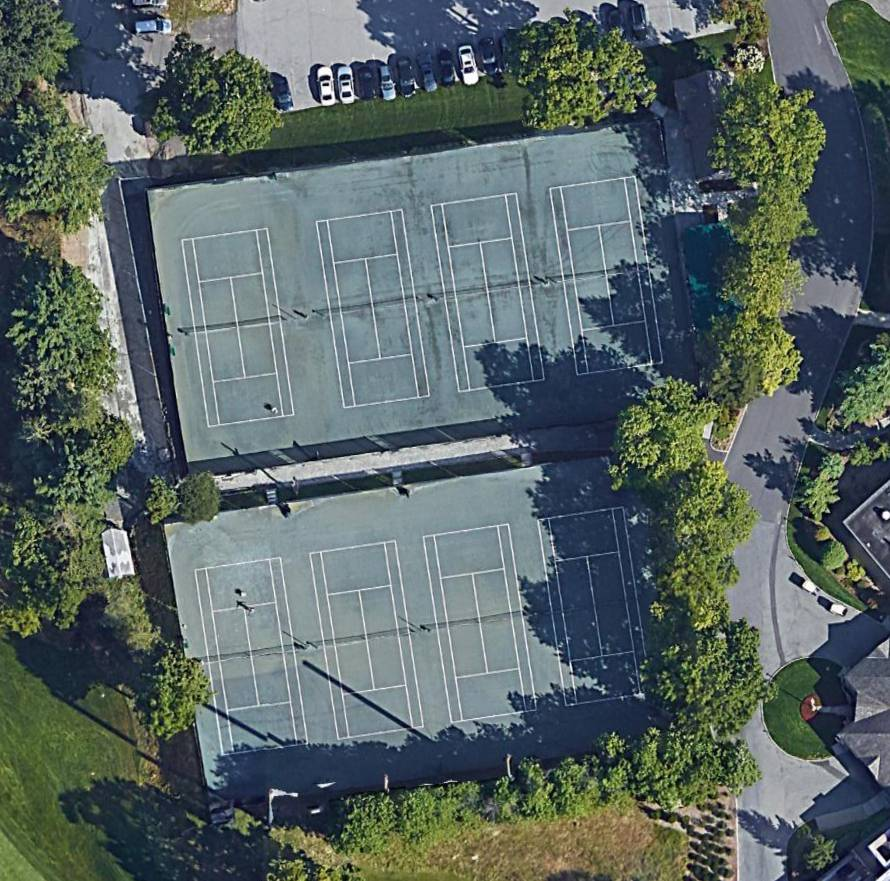small vehicle: (395, 54, 419, 100), (457, 44, 481, 88), (477, 36, 501, 79), (315, 65, 338, 108), (416, 52, 439, 94), (628, 2, 651, 42), (335, 66, 358, 105), (377, 65, 399, 104), (437, 49, 458, 89), (272, 76, 294, 112), (357, 67, 377, 100)
tennis court: (537, 505, 654, 705), (315, 209, 430, 409), (431, 193, 546, 393), (423, 524, 538, 724), (310, 540, 425, 740), (550, 176, 664, 376), (195, 558, 309, 756), (182, 228, 294, 428)
